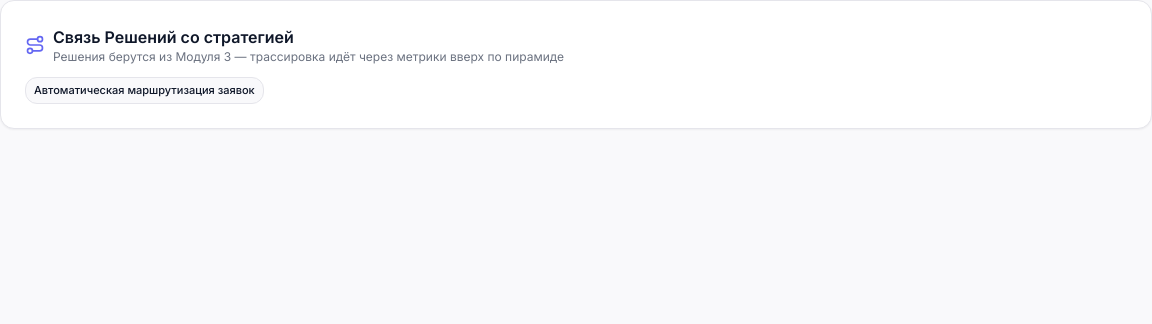
Test: SolutionTrace › complete показана как связная, broken_at_direction — с точкой обрыва
Click the button with test id "trace-solution-kr-0:0" at (144, 90), box [25,77,264,104]
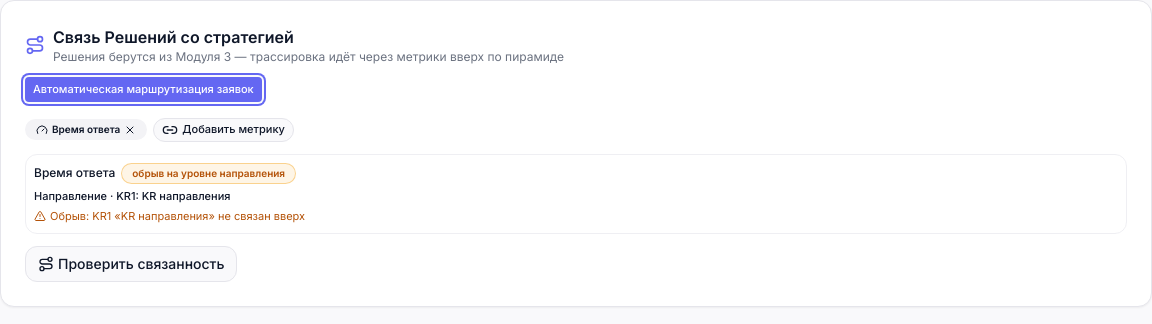
Check: the element with test id "trace-broken-point" shows "KR направления", box [121,209,208,223]
